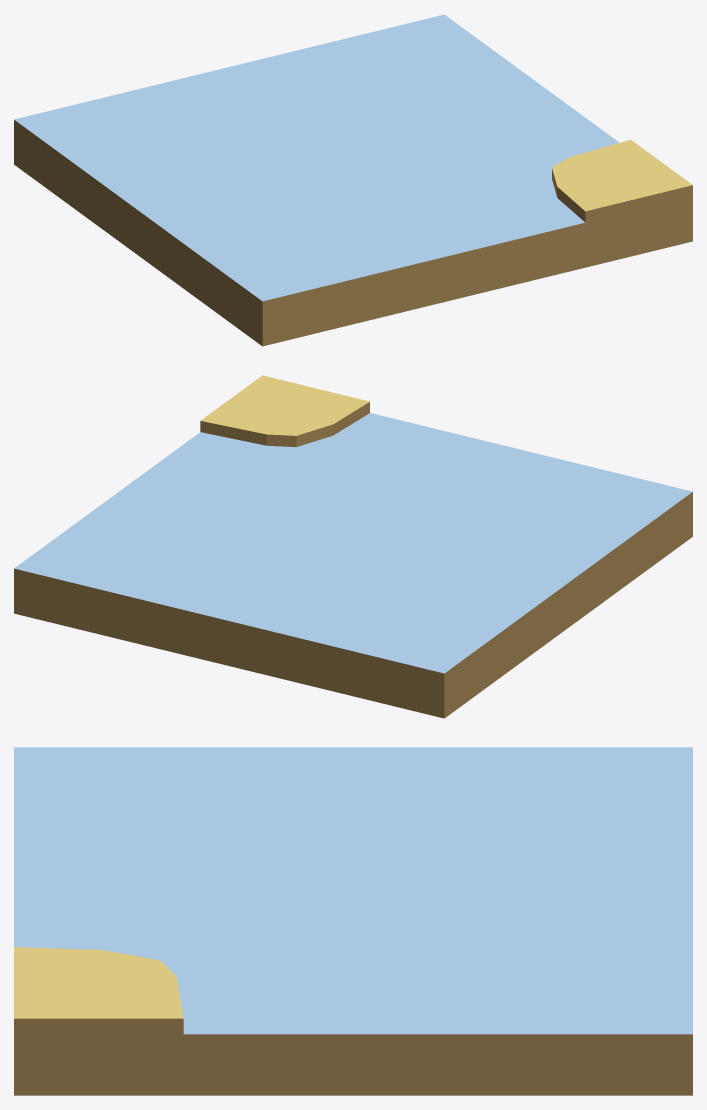
File: Terrain_Tile_Sand_Water_Bank_Corner_06.fbx
3 renders of one model, top to bottom at view 1: azimuth 30°, elevation 25°; view 2: azimuth 150°, elevation 25°; view 3: azimuth 270°, elevation 25°, orthographic. The views are drawn at different scales.
Parts seen in each view (by area): view 1: Terrain_Tile_Sand_Water_Bank_Corner_06; view 2: Terrain_Tile_Sand_Water_Bank_Corner_06; view 3: Terrain_Tile_Sand_Water_Bank_Corner_06.
Part boxes in pixels (x1,y1,x2,y2): Terrain_Tile_Sand_Water_Bank_Corner_06: (14, 14, 692, 346); Terrain_Tile_Sand_Water_Bank_Corner_06: (14, 375, 692, 718); Terrain_Tile_Sand_Water_Bank_Corner_06: (14, 747, 692, 1095).
Size of the model in its own units: 126 by 15.75 by 126.
